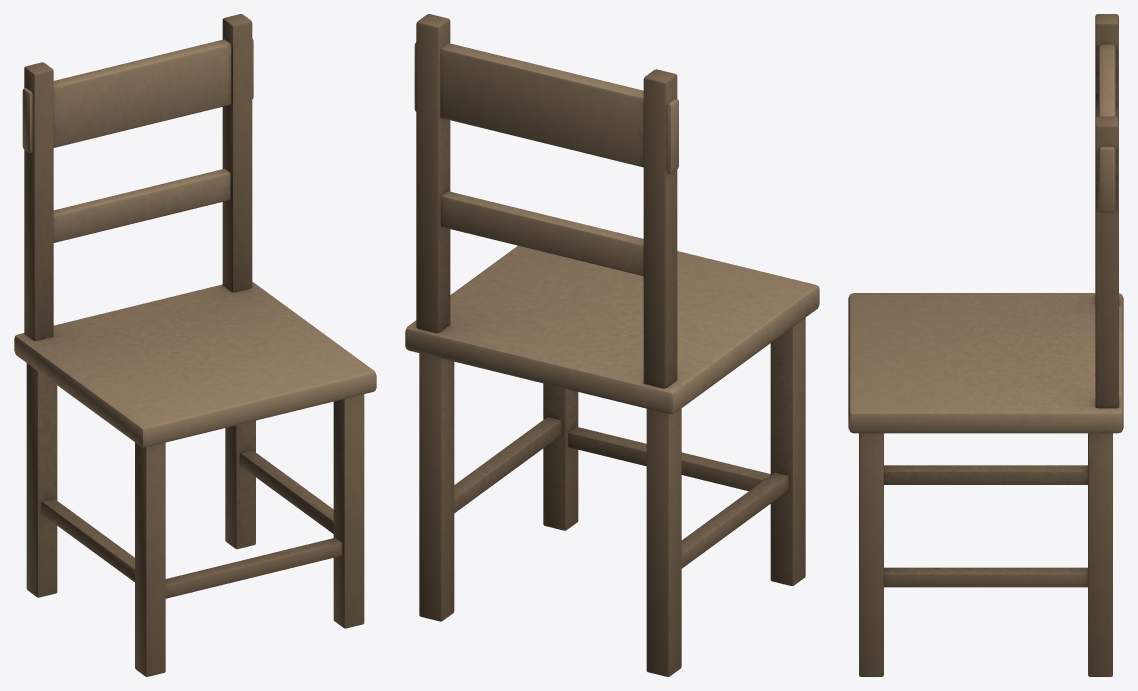
Rendered from soviet_chair.glb.
The picture shows the model from 3 angles, left to right: view 1: azimuth 30°, elevation 25°; view 2: azimuth 150°, elevation 25°; view 3: azimuth 270°, elevation 25°; orthographic projection. The views are drawn at different scales.
Parts seen in each view (by area): view 1: soviet_chair; view 2: soviet_chair; view 3: soviet_chair.
Boxes of the visible parts, <box> form: soviet_chair: <box>14,14,376,676</box>; soviet_chair: <box>405,14,819,676</box>; soviet_chair: <box>848,14,1123,676</box>.
Bounding box in the file's own units: 0.44 × 0.93 × 0.42.
Materials: 1 (1 with a texture image).
